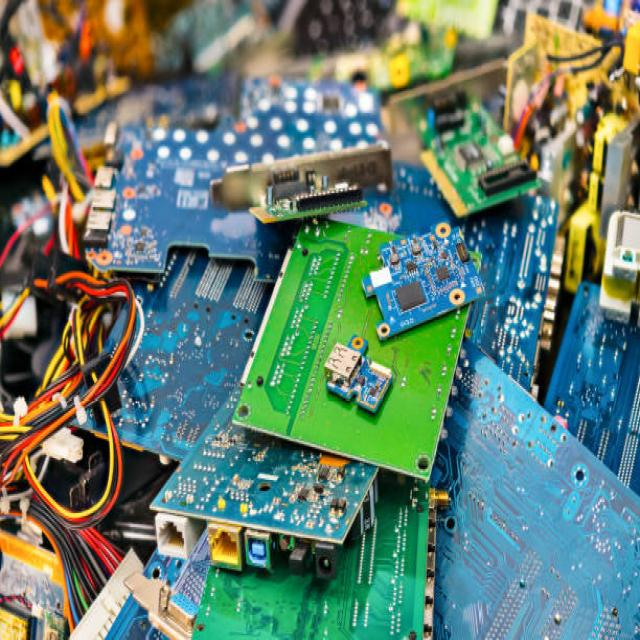metal: (107, 92, 476, 474)
